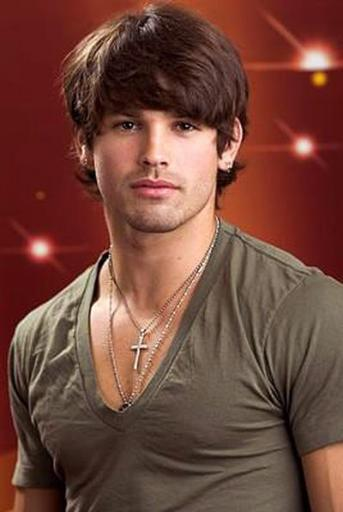left_eye: (174, 121, 203, 138)
left_lip_corner: (174, 184, 185, 198)
right_eye: (112, 119, 144, 135)
right_lip_corner: (127, 181, 138, 195)
